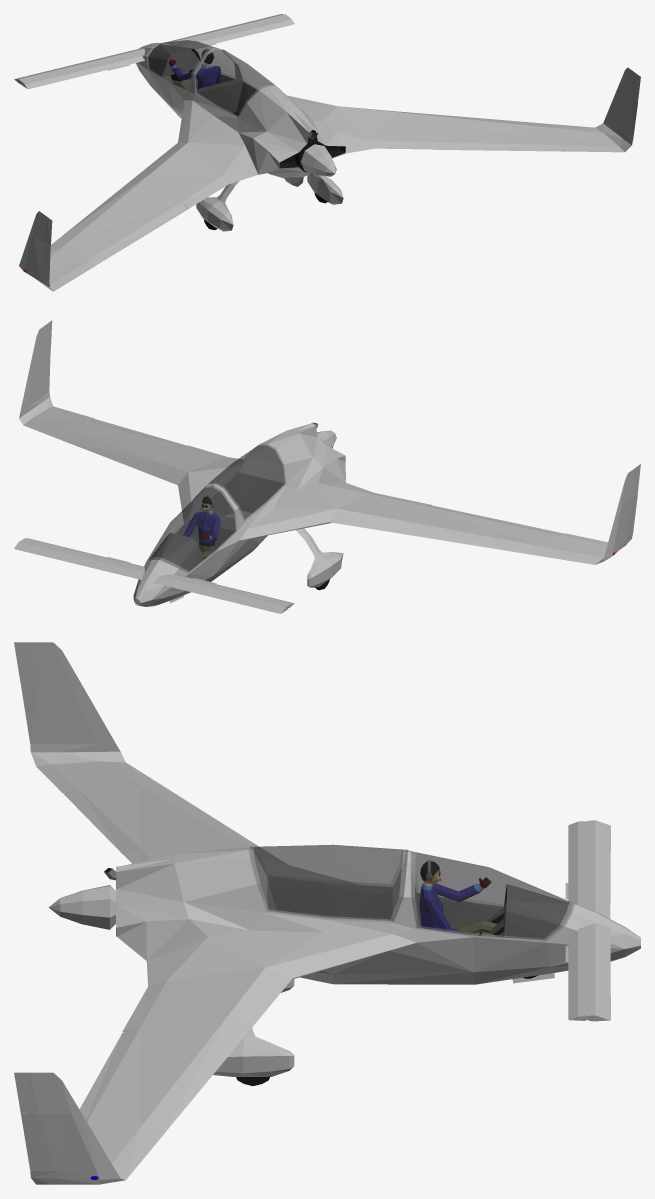
3 renders of one model, top to bottom at view 1: azimuth 30°, elevation 25°; view 2: azimuth 150°, elevation 25°; view 3: azimuth 270°, elevation 25°, orthographic. The views are drawn at different scales.
Parts seen in each view (by area): view 1: ShapeIndexedFaceSet_ShapeIndexedFaceSet.001, ShapeIndexedFaceSet.047_ShapeIndexedFaceSet, ShapeIndexedFaceSet.001_ShapeIndexedFaceSet.002, ShapeIndexedFaceSet.044_ShapeIndexedFaceSet.045, ShapeIndexedFaceSet.021_ShapeIndexedFaceSet.022, ShapeIndexedFaceSet.024_ShapeIndexedFaceSet.025, ShapeIndexedFaceSet.025_ShapeIndexedFaceSet.026, ShapeIndexedFaceSet.002_ShapeIndexedFaceSet.003, ShapeIndexedFaceSet.034_ShapeIndexedFaceSet.035, ShapeIndexedFaceSet.008_ShapeIndexedFaceSet.009; view 2: ShapeIndexedFaceSet_ShapeIndexedFaceSet.001, ShapeIndexedFaceSet.044_ShapeIndexedFaceSet.045, ShapeIndexedFaceSet.047_ShapeIndexedFaceSet, ShapeIndexedFaceSet.001_ShapeIndexedFaceSet.002, ShapeIndexedFaceSet.006_ShapeIndexedFaceSet.007, ShapeIndexedFaceSet.008_ShapeIndexedFaceSet.009, ShapeIndexedFaceSet.024_ShapeIndexedFaceSet.025; view 3: ShapeIndexedFaceSet_ShapeIndexedFaceSet.001, ShapeIndexedFaceSet.047_ShapeIndexedFaceSet, ShapeIndexedFaceSet.044_ShapeIndexedFaceSet.045, ShapeIndexedFaceSet.001_ShapeIndexedFaceSet.002, ShapeIndexedFaceSet.034_ShapeIndexedFaceSet.035, ShapeIndexedFaceSet.021_ShapeIndexedFaceSet.022, ShapeIndexedFaceSet.046_ShapeIndexedFaceSet.047, ShapeIndexedFaceSet.022_ShapeIndexedFaceSet.023, ShapeIndexedFaceSet.025_ShapeIndexedFaceSet.026, ShapeIndexedFaceSet.024_ShapeIndexedFaceSet.025, ShapeIndexedFaceSet.023_ShapeIndexedFaceSet.024, ShapeIndexedFaceSet.045_ShapeIndexedFaceSet.046 (+2 smaller).
Part boxes in pixels (bbox=[...]): ShapeIndexedFaceSet_ShapeIndexedFaceSet.001: bbox=[14, 14, 640, 291]; ShapeIndexedFaceSet.047_ShapeIndexedFaceSet: bbox=[196, 50, 273, 114]; ShapeIndexedFaceSet.001_ShapeIndexedFaceSet.002: bbox=[148, 44, 316, 139]; ShapeIndexedFaceSet.044_ShapeIndexedFaceSet.045: bbox=[148, 40, 235, 89]; ShapeIndexedFaceSet.021_ShapeIndexedFaceSet.022: bbox=[22, 17, 294, 88]; ShapeIndexedFaceSet.024_ShapeIndexedFaceSet.025: bbox=[89, 201, 187, 265]; ShapeIndexedFaceSet.025_ShapeIndexedFaceSet.026: bbox=[427, 142, 565, 151]; ShapeIndexedFaceSet.002_ShapeIndexedFaceSet.003: bbox=[164, 49, 345, 230]; ShapeIndexedFaceSet.034_ShapeIndexedFaceSet.035: bbox=[301, 144, 336, 176]; ShapeIndexedFaceSet.008_ShapeIndexedFaceSet.009: bbox=[196, 66, 220, 88]; ShapeIndexedFaceSet_ShapeIndexedFaceSet.001: bbox=[14, 320, 640, 613]; ShapeIndexedFaceSet.044_ShapeIndexedFaceSet.045: bbox=[148, 487, 235, 570]; ShapeIndexedFaceSet.047_ShapeIndexedFaceSet: bbox=[196, 445, 284, 518]; ShapeIndexedFaceSet.001_ShapeIndexedFaceSet.002: bbox=[149, 423, 318, 572]; ShapeIndexedFaceSet.006_ShapeIndexedFaceSet.007: bbox=[188, 472, 284, 549]; ShapeIndexedFaceSet.008_ShapeIndexedFaceSet.009: bbox=[183, 511, 219, 544]; ShapeIndexedFaceSet.024_ShapeIndexedFaceSet.025: bbox=[427, 505, 564, 535]; ShapeIndexedFaceSet_ShapeIndexedFaceSet.001: bbox=[14, 642, 640, 1184]; ShapeIndexedFaceSet.047_ShapeIndexedFaceSet: bbox=[254, 844, 402, 918]; ShapeIndexedFaceSet.044_ShapeIndexedFaceSet.045: bbox=[415, 852, 568, 938]; ShapeIndexedFaceSet.001_ShapeIndexedFaceSet.002: bbox=[104, 869, 571, 940]; ShapeIndexedFaceSet.034_ShapeIndexedFaceSet.035: bbox=[48, 885, 115, 929]; ShapeIndexedFaceSet.021_ShapeIndexedFaceSet.022: bbox=[565, 821, 586, 1020]; ShapeIndexedFaceSet.046_ShapeIndexedFaceSet.047: bbox=[249, 846, 407, 922]; ShapeIndexedFaceSet.022_ShapeIndexedFaceSet.023: bbox=[21, 684, 56, 744]; ShapeIndexedFaceSet.025_ShapeIndexedFaceSet.026: bbox=[79, 1027, 139, 1121]; ShapeIndexedFaceSet.024_ShapeIndexedFaceSet.025: bbox=[63, 790, 139, 853]; ShapeIndexedFaceSet.023_ShapeIndexedFaceSet.024: bbox=[21, 1113, 56, 1171]; ShapeIndexedFaceSet.045_ShapeIndexedFaceSet.046: bbox=[249, 847, 407, 922].
Size of the model in its own units: 77.94 by 16.76 by 47.86.
